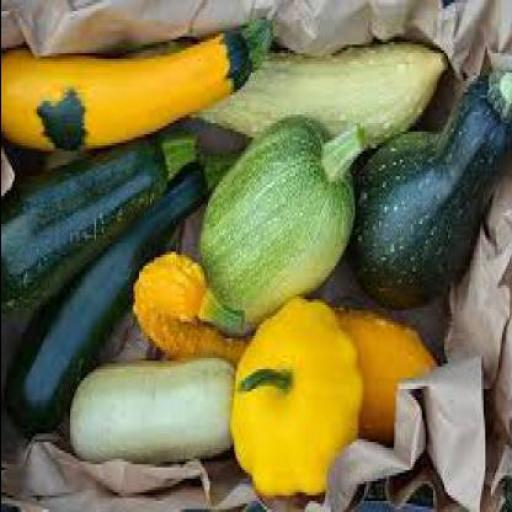biodegradable: (7, 160, 240, 448), (2, 20, 274, 162), (354, 67, 511, 311), (197, 118, 374, 330), (2, 131, 201, 311), (186, 45, 452, 159), (233, 296, 363, 506), (73, 363, 238, 470), (134, 257, 252, 369), (339, 316, 435, 448)
